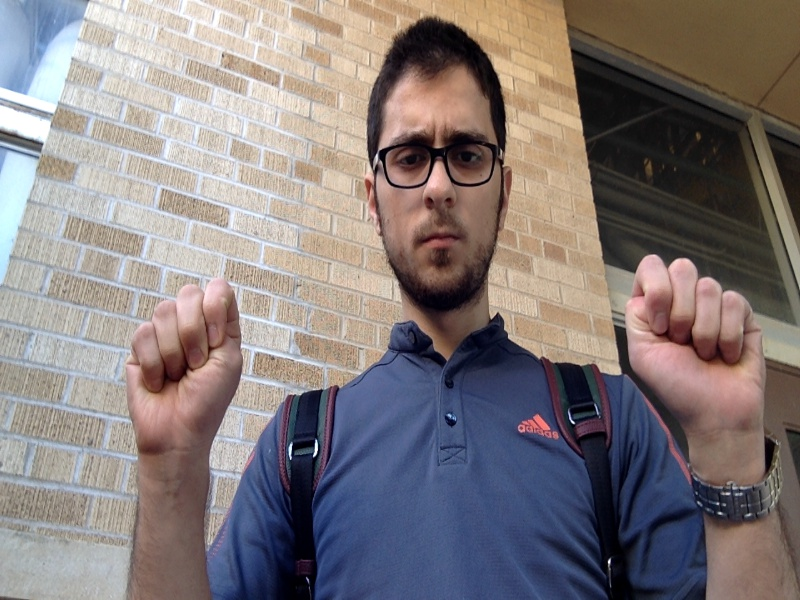0-hand: (626, 255, 763, 432), (126, 281, 243, 453)
